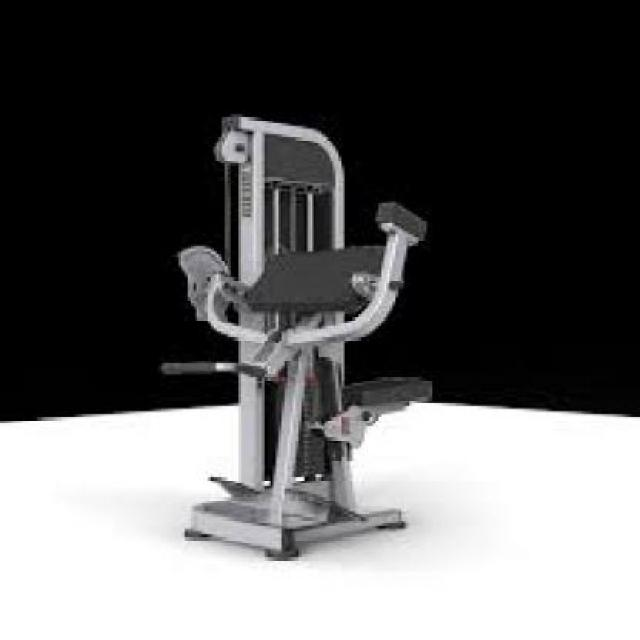arm curl machine: (160, 112, 437, 565)
